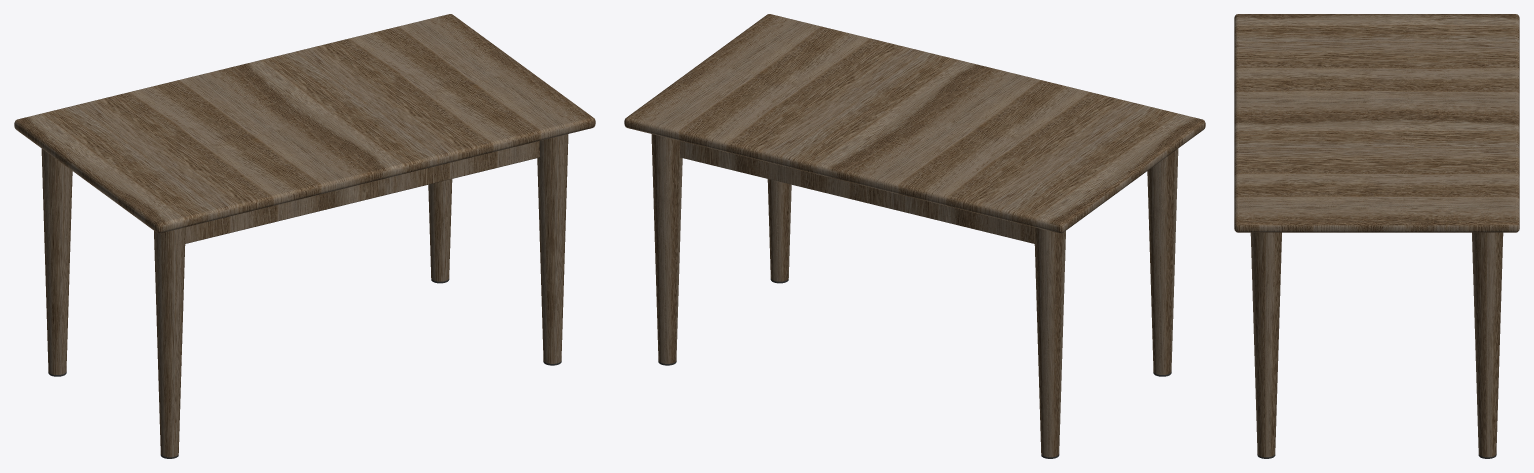
The model's file is detail-dining-table.glb.
3 renders of one model, left to right at view 1: azimuth 30°, elevation 25°; view 2: azimuth 150°, elevation 25°; view 3: azimuth 270°, elevation 25°, orthographic.
Visible parts, largest first — view 1: 圆角实木餐桌面, 餐桌围板, 锥形餐桌腿, 锥形餐桌腿.002, 锥形餐桌腿.001, 锥形餐桌腿.003; view 2: 圆角实木餐桌面, 餐桌围板.001, 锥形餐桌腿.001, 锥形餐桌腿.003, 锥形餐桌腿, 锥形餐桌腿.002; view 3: 圆角实木餐桌面, 锥形餐桌腿.002, 锥形餐桌腿.003.
Part boxes in pixels (x1,y1,x2,y2): 圆角实木餐桌面: [14, 14, 595, 233]; 餐桌围板: [185, 141, 539, 243]; 锥形餐桌腿: [154, 227, 185, 457]; 锥形餐桌腿.002: [537, 134, 568, 363]; 锥形餐桌腿.001: [41, 149, 72, 374]; 锥形餐桌腿.003: [428, 179, 452, 281]; 圆角实木餐桌面: [624, 14, 1205, 233]; 餐桌围板.001: [680, 141, 1034, 243]; 锥形餐桌腿.001: [1034, 227, 1065, 457]; 锥形餐桌腿.003: [651, 134, 682, 363]; 锥形餐桌腿: [1147, 149, 1178, 374]; 锥形餐桌腿.002: [767, 179, 791, 281]; 圆角实木餐桌面: [1234, 14, 1519, 232]; 锥形餐桌腿.002: [1250, 232, 1281, 457]; 锥形餐桌腿.003: [1472, 232, 1503, 457].
Size of the model in its own units: 1.4 by 0.758 by 0.8.
Materials: 2 (1 with a texture image).
